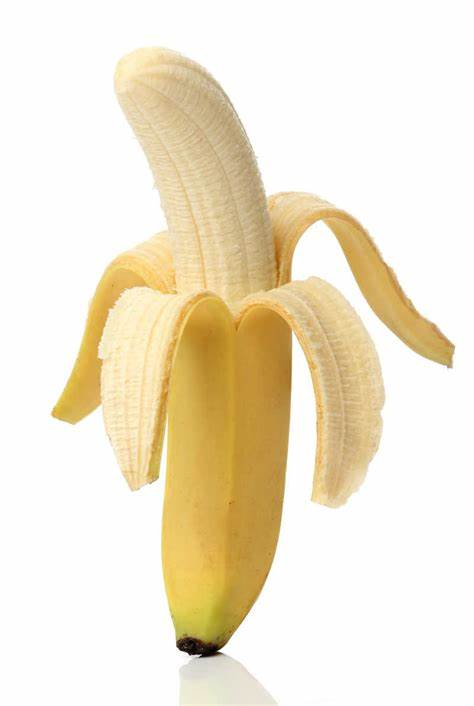banana: (48, 33, 460, 678)
